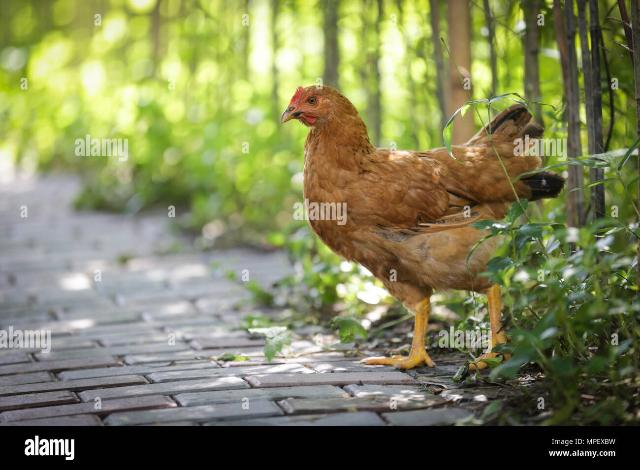Chicken: (281, 85, 564, 374)
